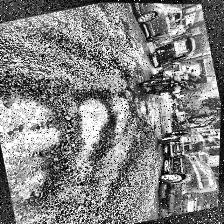pothole: (0, 82, 78, 204), (72, 92, 118, 152), (139, 98, 152, 116), (124, 86, 136, 102)
